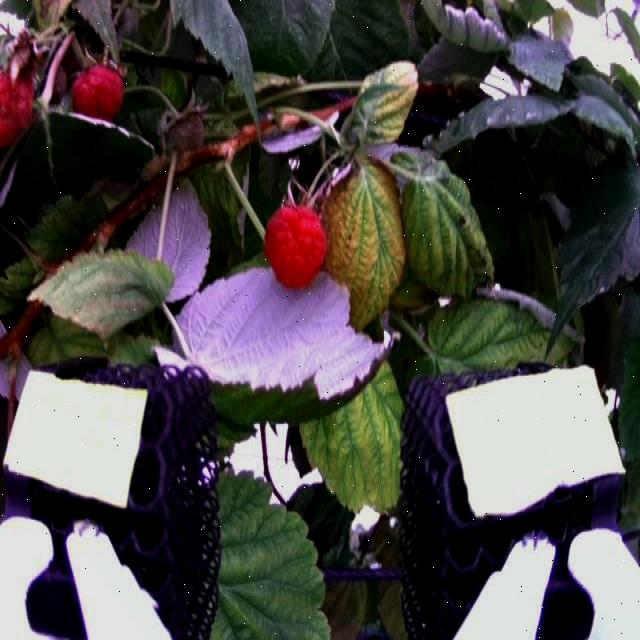Riped berries: (264, 198, 328, 293), (72, 52, 127, 130), (0, 36, 36, 155)
